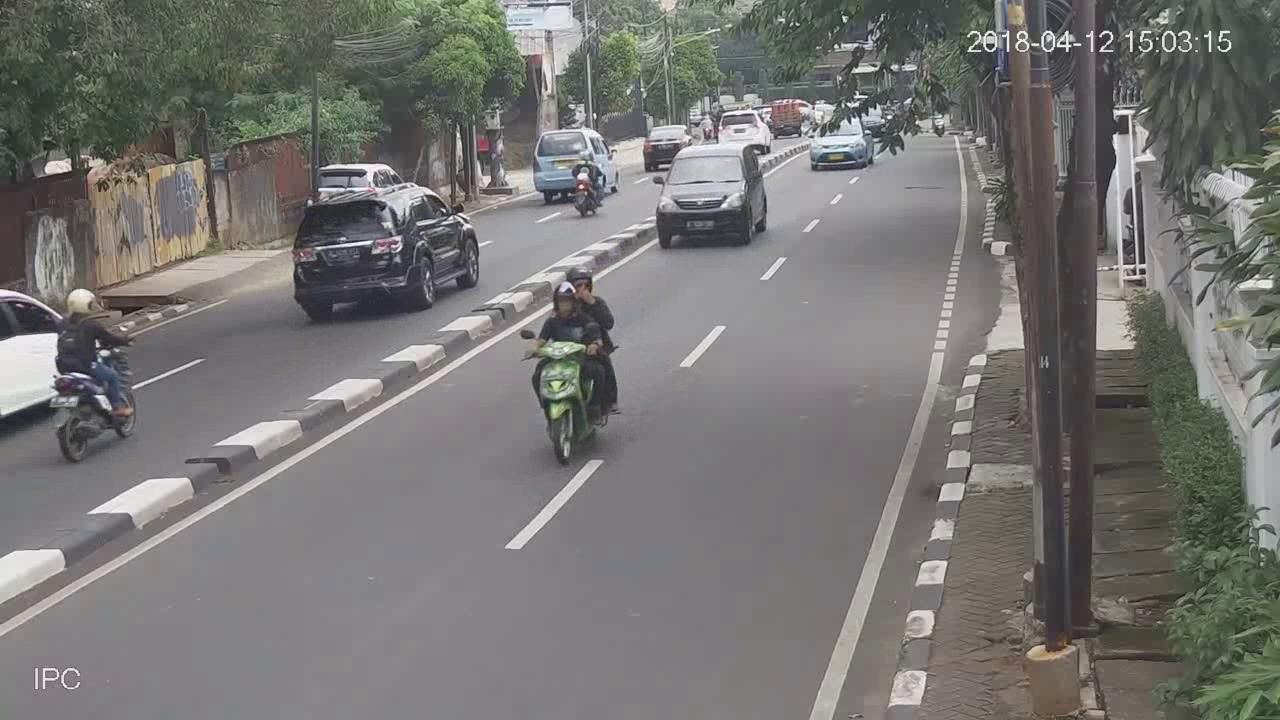car: (286, 186, 479, 326), (653, 143, 769, 246), (532, 127, 623, 202), (810, 119, 875, 166), (641, 121, 689, 171), (717, 107, 773, 148)
motorcycle: (520, 266, 623, 468), (39, 287, 142, 463), (571, 148, 603, 219)
